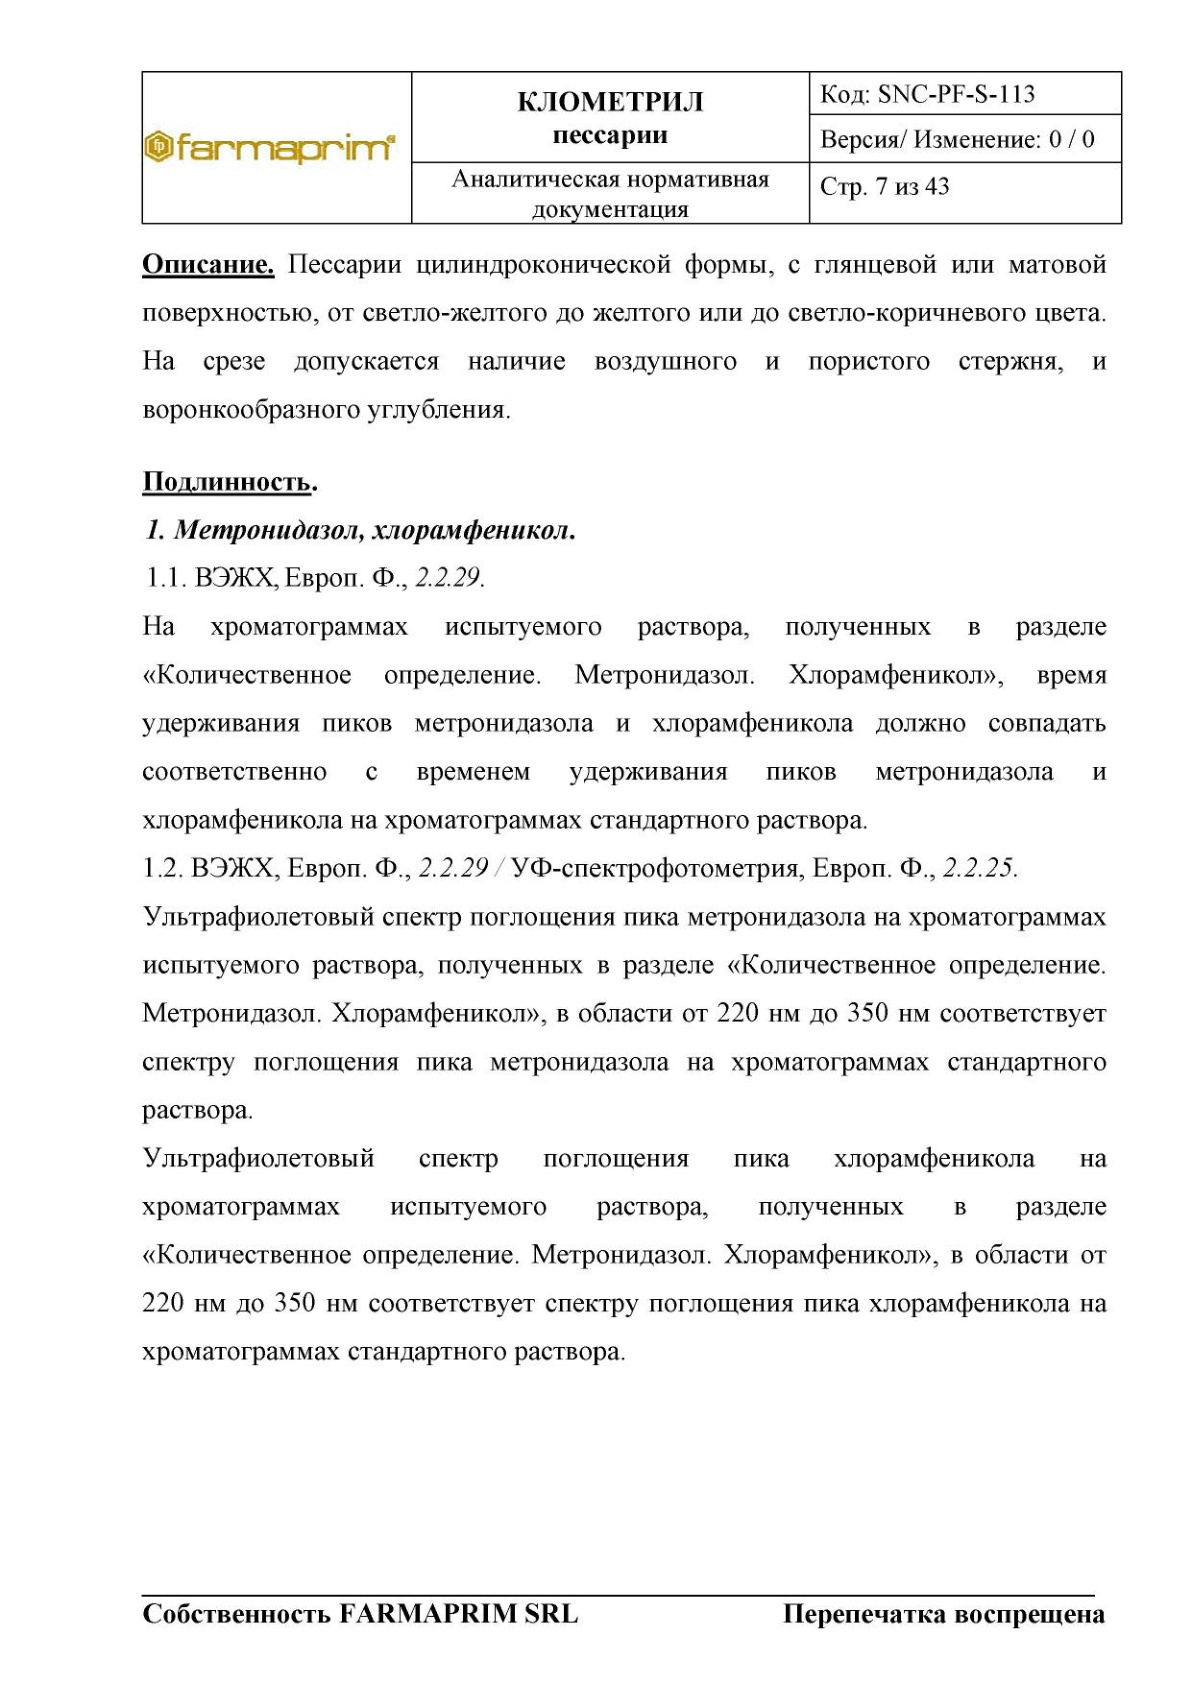merged_cells: (139, 70, 1122, 224)
